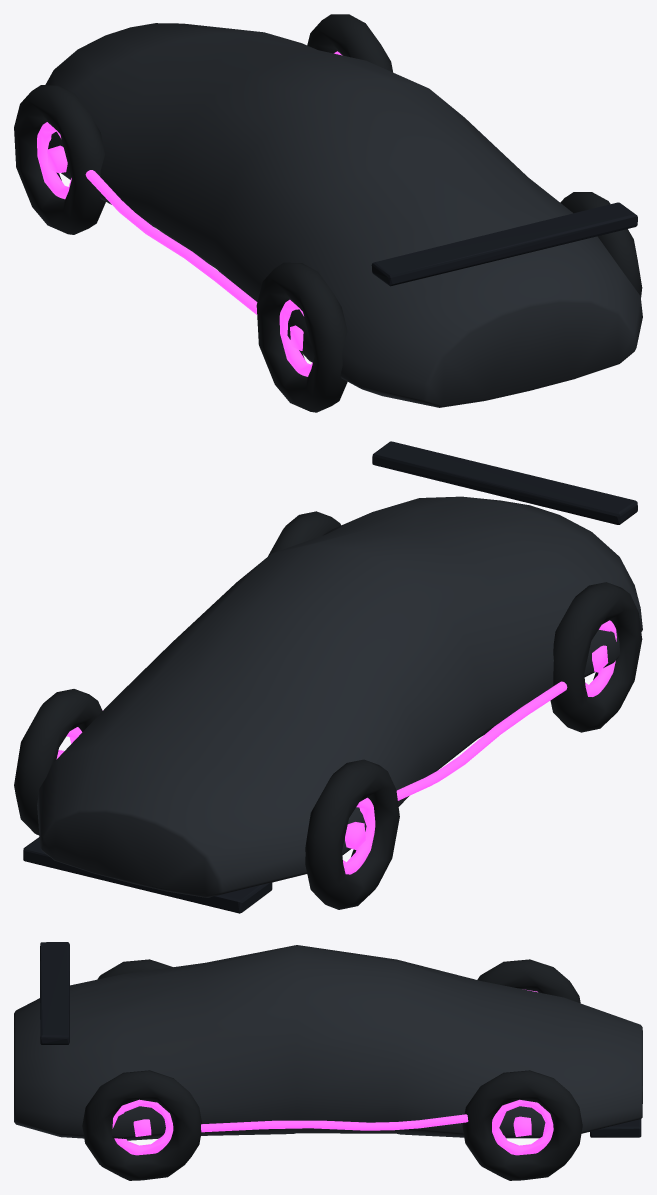
Rendered from AfareetKing_LOD1.fbx.
3 views of the same model, one above another, from view 1: azimuth 30°, elevation 25°; view 2: azimuth 150°, elevation 25°; view 3: azimuth 270°, elevation 25° (orthographic). The views are drawn at different scales.
Parts seen in each view (by area): view 1: AfareetKing_Body_LOD1, AfareetKing_Wheel_FL_LOD1, AfareetKing_Wheel_RL_LOD1, AfareetKing_Wheel_FR_LOD1, AfareetKing_Wheel_RR_LOD1; view 2: AfareetKing_Body_LOD1, AfareetKing_Wheel_FL_LOD1, AfareetKing_Wheel_RL_LOD1, AfareetKing_Wheel_FR_LOD1, AfareetKing_Wheel_RR_LOD1; view 3: AfareetKing_Body_LOD1, AfareetKing_Wheel_FR_LOD1, AfareetKing_Wheel_RR_LOD1, AfareetKing_Wheel_FL_LOD1, AfareetKing_Wheel_RL_LOD1.
Part boxes in pixels (bbox=[...]): AfareetKing_Body_LOD1: bbox=[45, 23, 642, 407]; AfareetKing_Wheel_FL_LOD1: bbox=[14, 85, 105, 234]; AfareetKing_Wheel_RL_LOD1: bbox=[256, 262, 347, 412]; AfareetKing_Wheel_FR_LOD1: bbox=[307, 14, 392, 72]; AfareetKing_Wheel_RR_LOD1: bbox=[560, 192, 642, 297]; AfareetKing_Body_LOD1: bbox=[23, 441, 642, 913]; AfareetKing_Wheel_FL_LOD1: bbox=[305, 759, 399, 909]; AfareetKing_Wheel_RL_LOD1: bbox=[550, 582, 642, 732]; AfareetKing_Wheel_FR_LOD1: bbox=[14, 689, 102, 835]; AfareetKing_Wheel_RR_LOD1: bbox=[268, 511, 341, 556]; AfareetKing_Body_LOD1: bbox=[14, 942, 642, 1140]; AfareetKing_Wheel_FR_LOD1: bbox=[462, 1070, 582, 1180]; AfareetKing_Wheel_RR_LOD1: bbox=[82, 1070, 202, 1180]; AfareetKing_Wheel_FL_LOD1: bbox=[477, 959, 580, 1003]; AfareetKing_Wheel_RL_LOD1: bbox=[97, 959, 172, 979].
Size of the model in its own units: 2.13 by 1.36 by 4.6.
